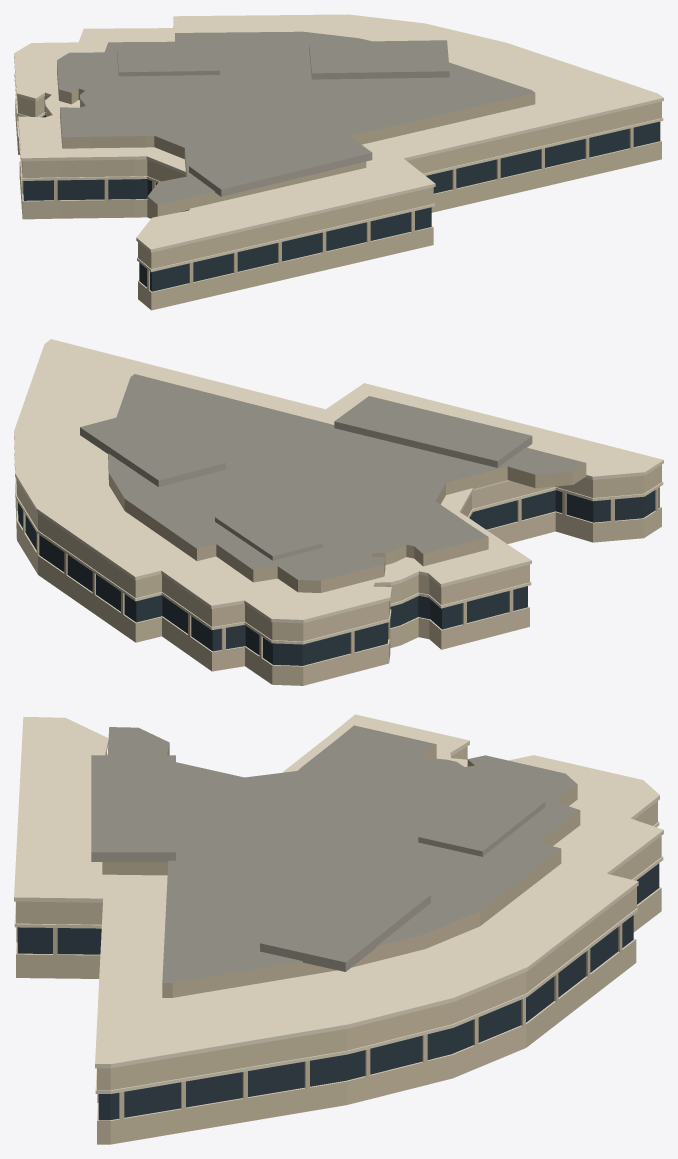
The model's file is the_palazzo_w180584269.glb.
3 views of the same model, one above another, from view 1: azimuth 30°, elevation 25°; view 2: azimuth 150°, elevation 25°; view 3: azimuth 270°, elevation 25° (orthographic). The views are drawn at different scales.
Parts seen in each view (by area): view 1: Podium_w180584269; view 2: Podium_w180584269; view 3: Podium_w180584269.
Boxes of the visible parts, left/top/right/bottom form: Podium_w180584269: left=14, top=14, right=663, bottom=310; Podium_w180584269: left=14, top=339, right=663, bottom=685; Podium_w180584269: left=14, top=714, right=663, bottom=1144.
Bounding box in the file's own units: 273 × 38.1 × 215.
